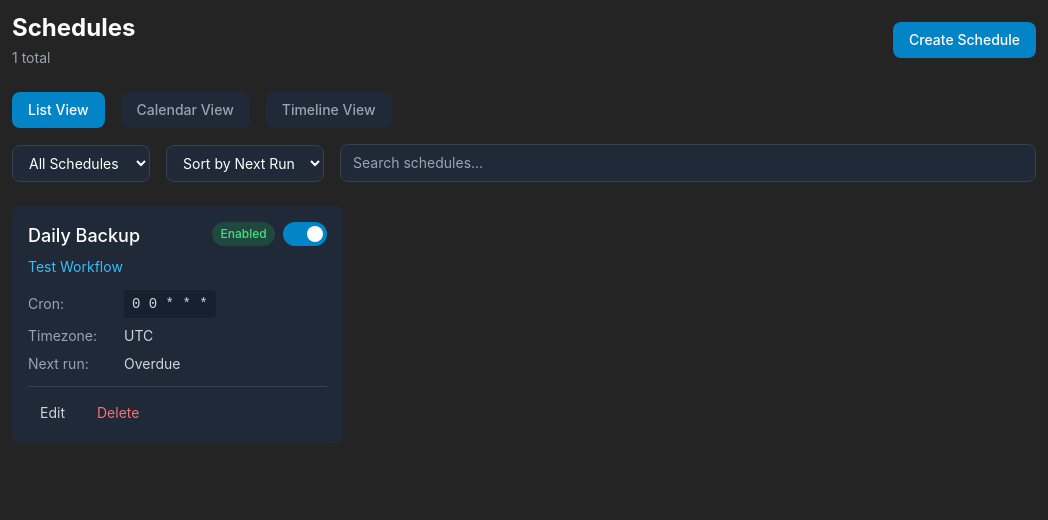
Test: Schedules Page › Toggle error handling › should show toggle error message
This screenshot has width=1048, height=520.
Click the switch at (305, 234), box [283, 222, 327, 246]
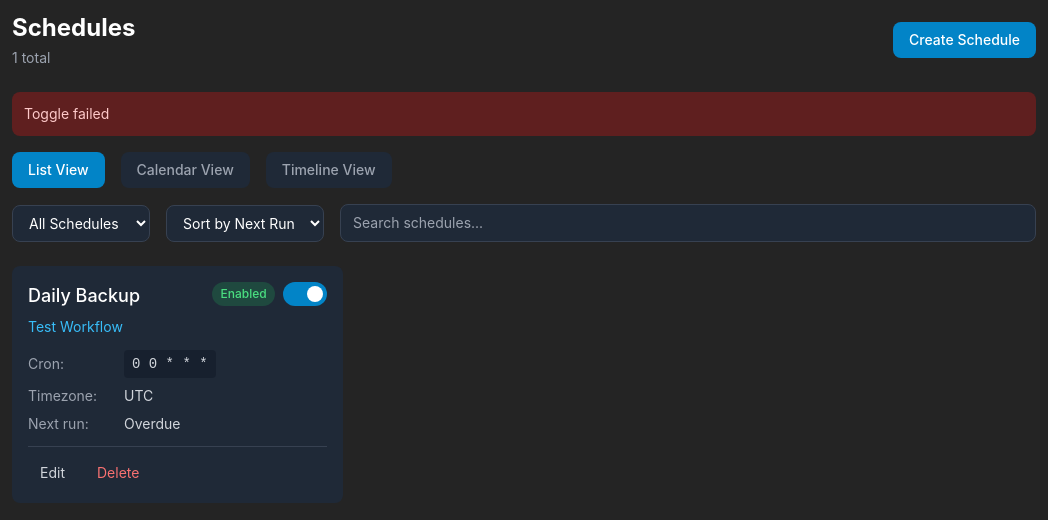
Check: the text "Toggle failed" is shown, box [12, 92, 1036, 136]
